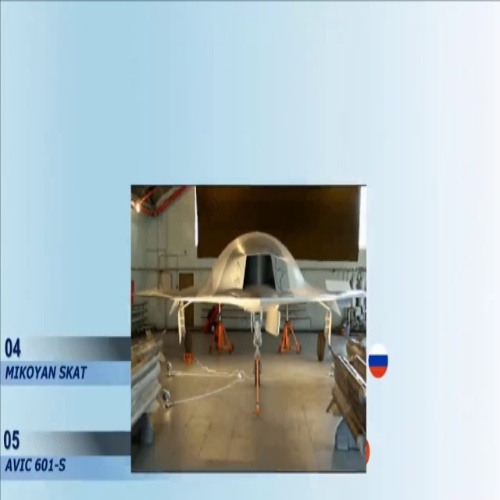uav: (134, 231, 366, 325)
